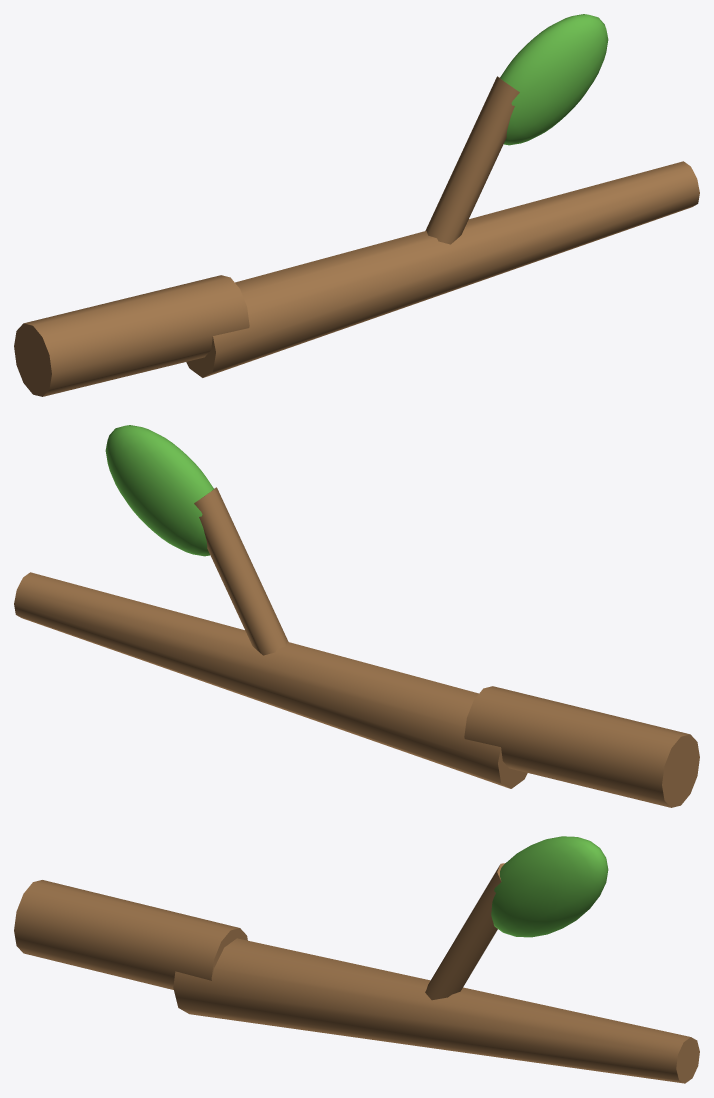
Rendered from wpn_twig.glb.
The picture shows the model from 3 angles, top to bottom: view 1: azimuth 30°, elevation 25°; view 2: azimuth 150°, elevation 25°; view 3: azimuth 330°, elevation 25°; orthographic projection.
Size of the model in its own units: 0.9957 by 0.383 by 0.1125.
